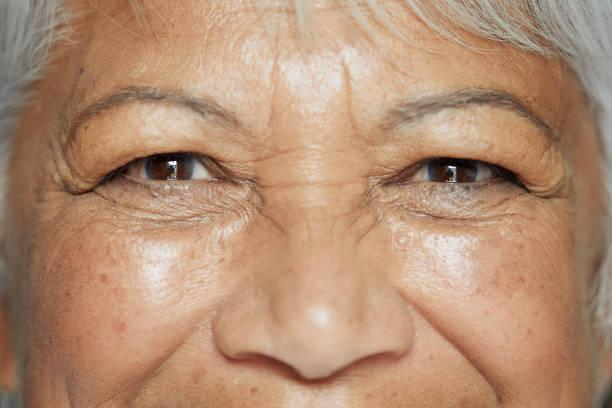Dry-Skin: (20, 190, 258, 375), (390, 197, 592, 382), (200, 9, 408, 160)
